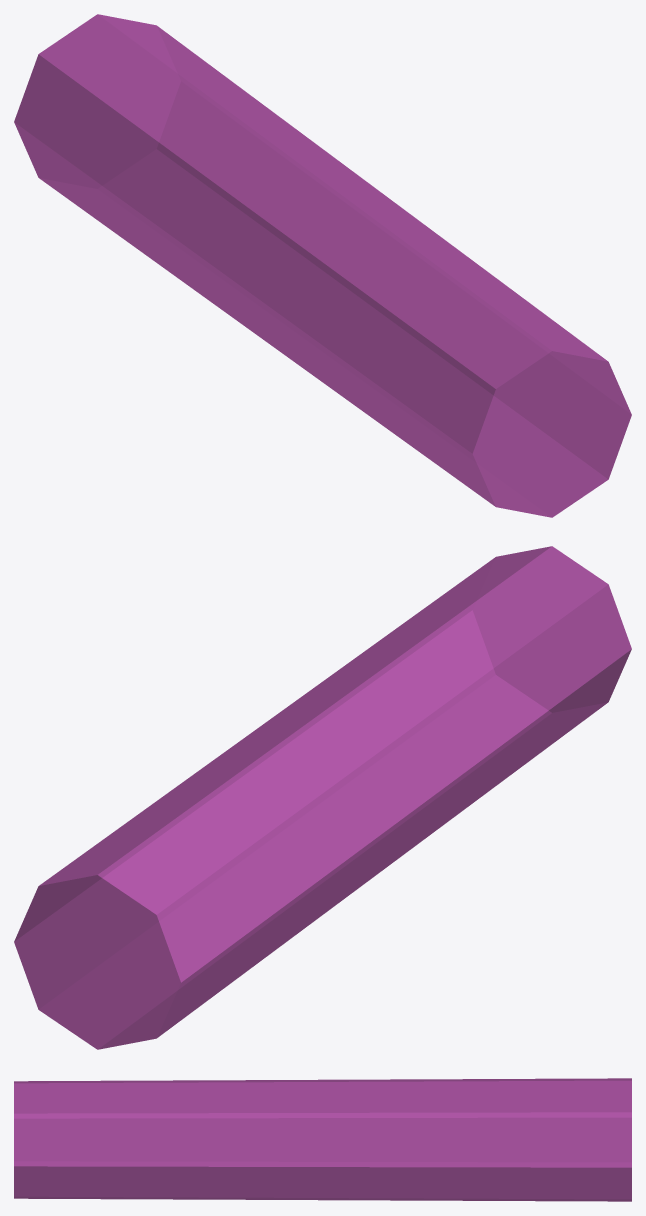
Rendered from SM_Wep_Cannon_05_Barrel_01_Collision.fbx.
3 renders of one model, top to bottom at view 1: azimuth 30°, elevation 25°; view 2: azimuth 150°, elevation 25°; view 3: azimuth 270°, elevation 25°, orthographic. The views are drawn at different scales.
Parts seen in each view (by area): view 1: SM_Wep_Cannon_05_Barrel_01_Collision; view 2: SM_Wep_Cannon_05_Barrel_01_Collision; view 3: SM_Wep_Cannon_05_Barrel_01_Collision.
Boxes of the visible parts, x1,y1,x2,y2 form: SM_Wep_Cannon_05_Barrel_01_Collision: (14, 14, 631, 517); SM_Wep_Cannon_05_Barrel_01_Collision: (14, 546, 631, 1049); SM_Wep_Cannon_05_Barrel_01_Collision: (14, 1078, 631, 1201).
Size of the model in its own units: 96.16 by 96.16 by 453.
